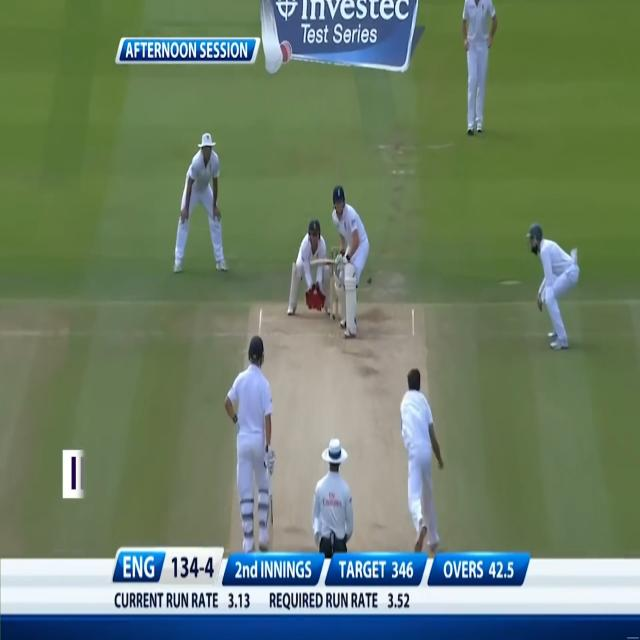ball: (366, 274, 374, 289)
